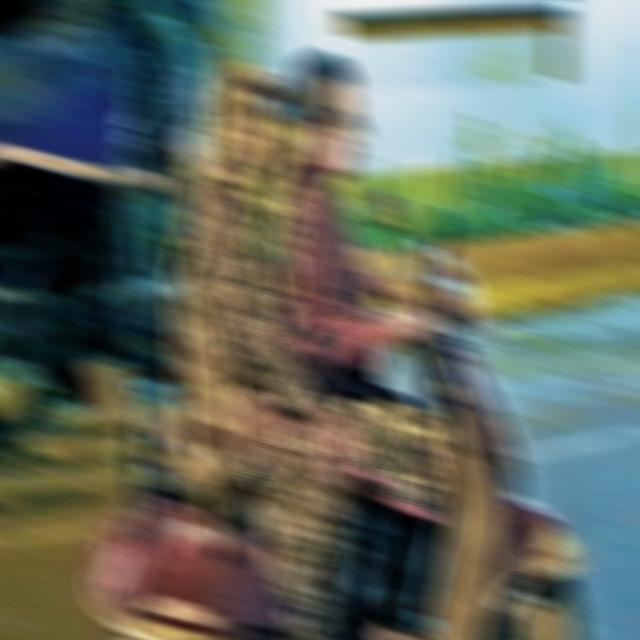Without Helmet: (284, 48, 368, 185)
